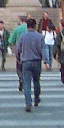person: (17, 22, 44, 112)
